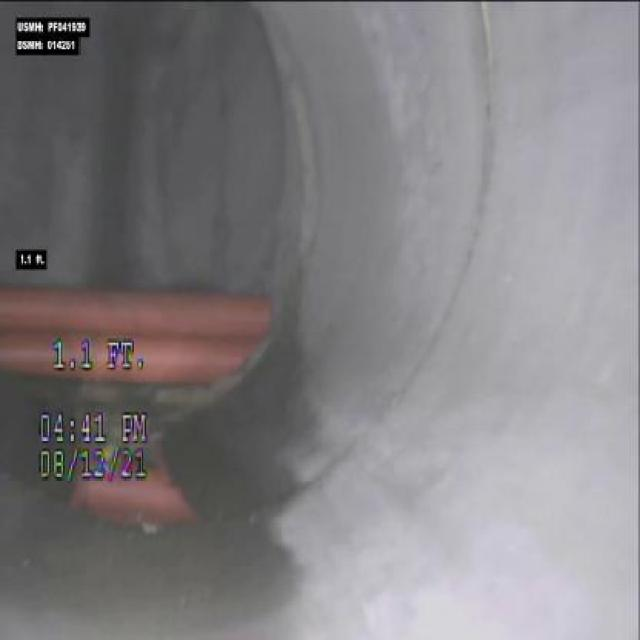Utility intrusion: (150, 266, 284, 414), (3, 271, 146, 340)
